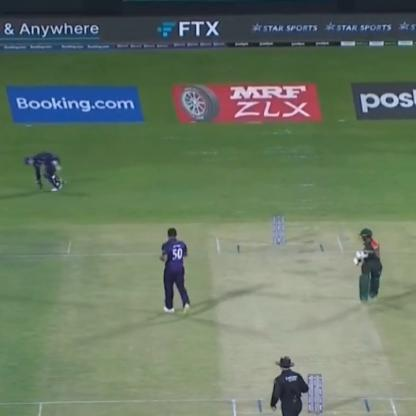pitch: (210, 226, 411, 416)
